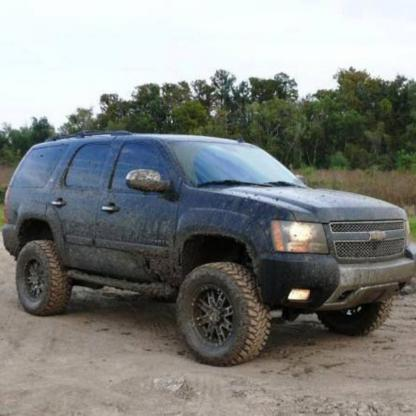Car: (0, 126, 415, 368)
